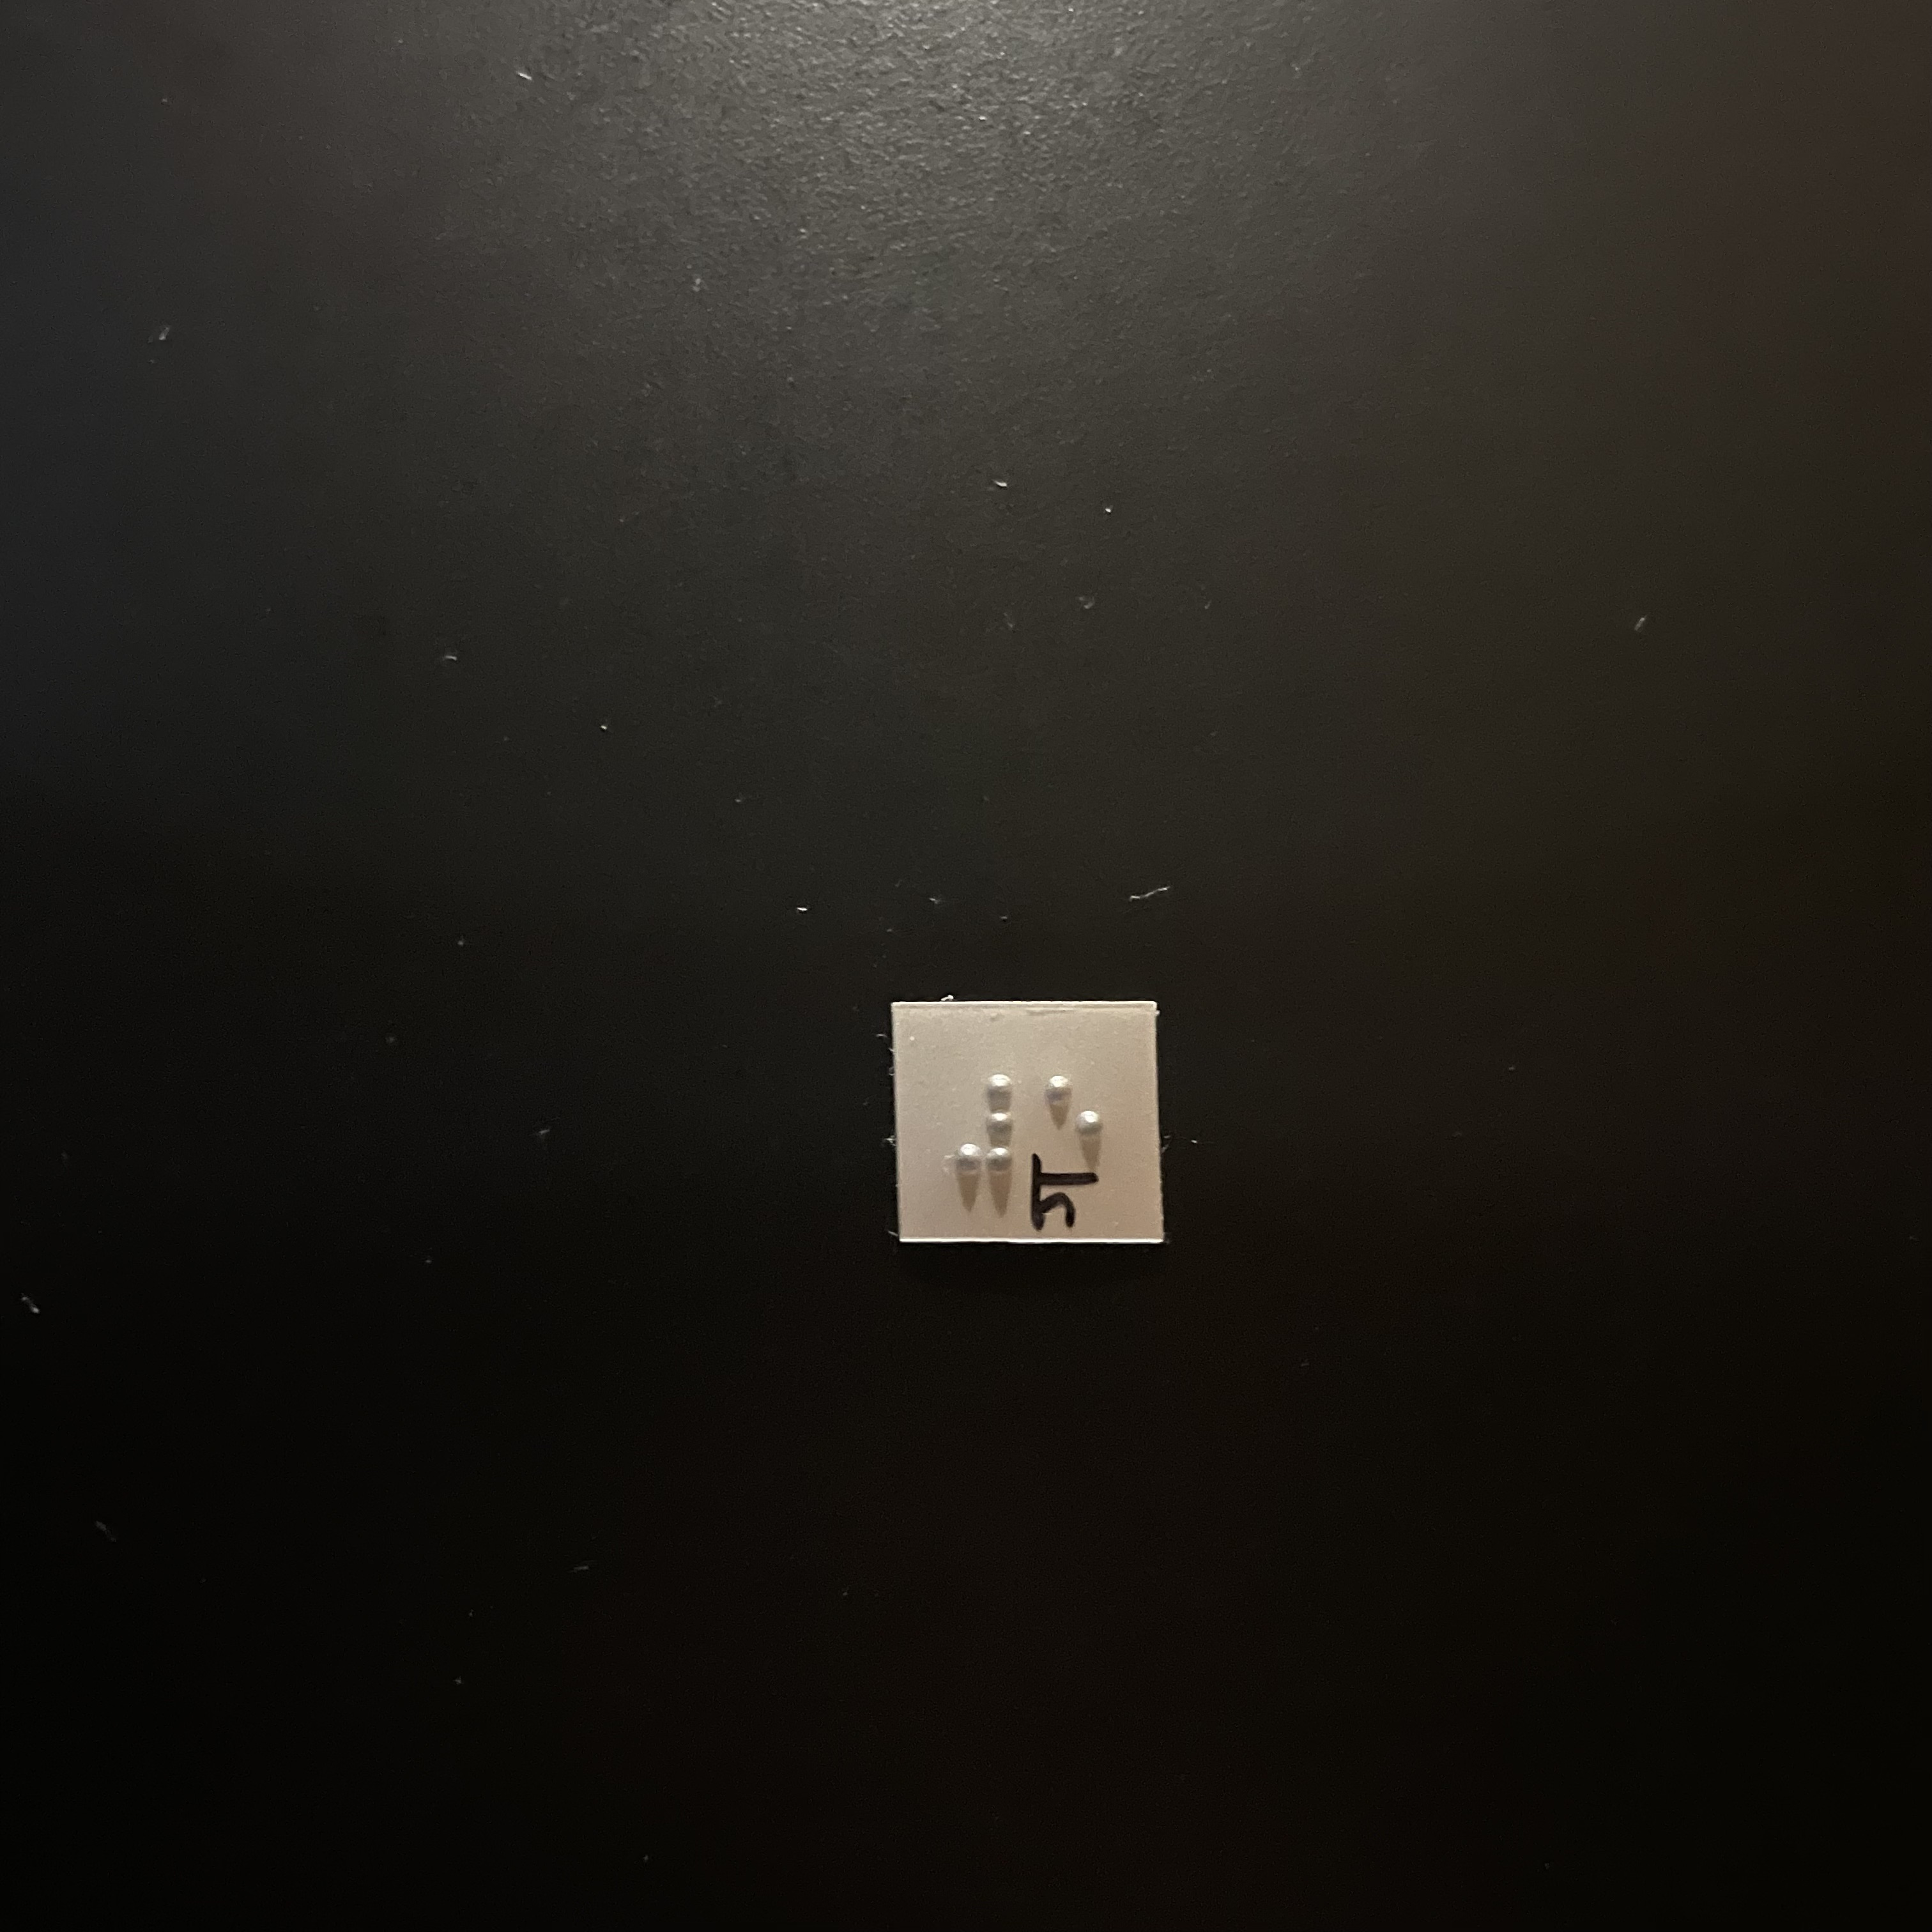#: (950, 1071, 1023, 1209)
e: (1034, 1068, 1111, 1207)
